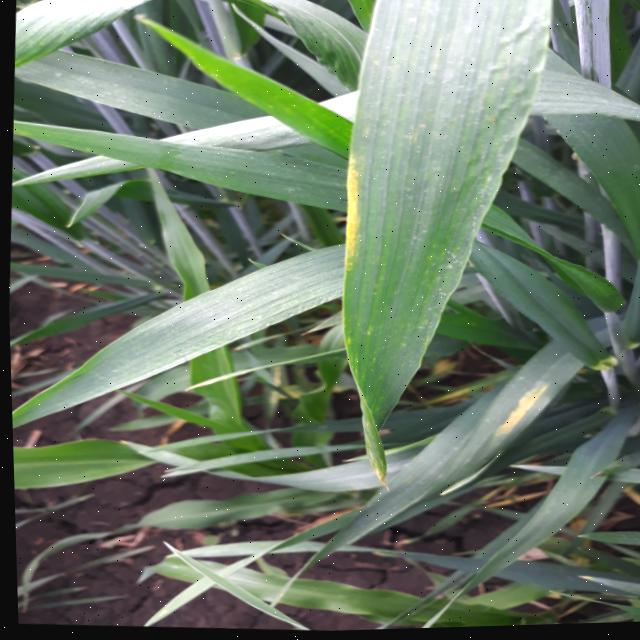yellow_rust: (309, 105, 547, 514), (475, 369, 566, 485)
